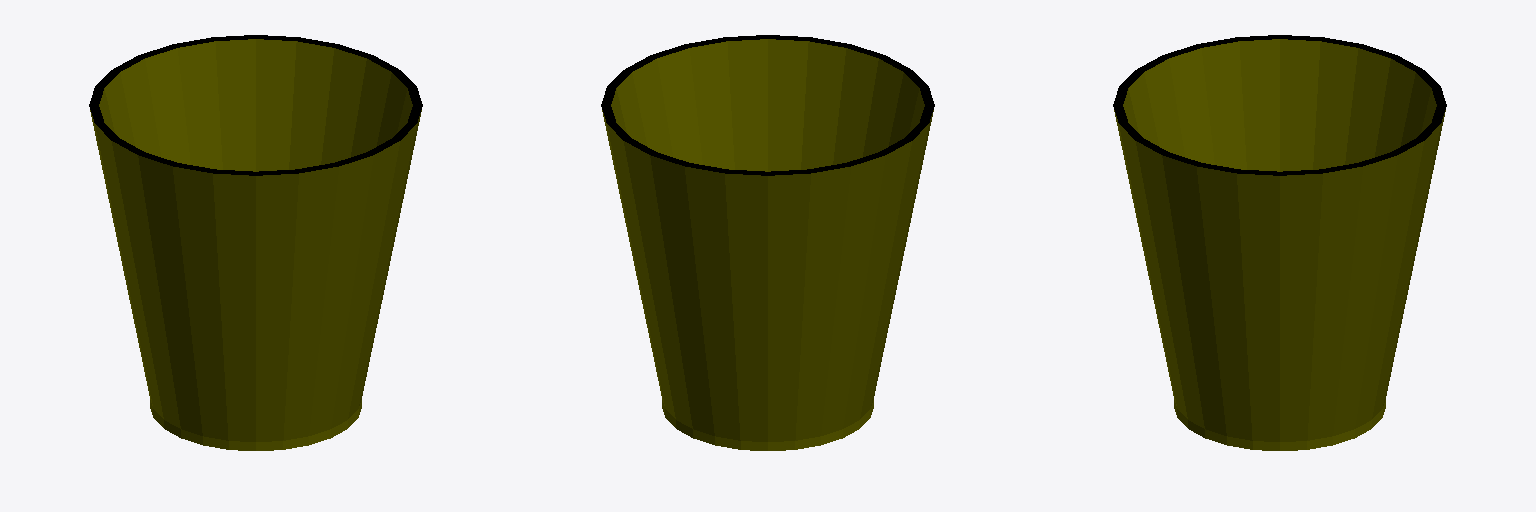
Rendered from trashOrganico.obj.
The picture shows the model from 3 angles: view 1: azimuth 30°, elevation 25°; view 2: azimuth 150°, elevation 25°; view 3: azimuth 270°, elevation 25°; orthographic projection.
Visible parts, largest first — view 1: Mesh1 Model; view 2: Mesh1 Model; view 3: Mesh1 Model.
Part boxes in pixels (x1,y1,x2,y2): Mesh1 Model: (89, 35, 422, 450); Mesh1 Model: (601, 35, 934, 450); Mesh1 Model: (1113, 35, 1446, 450).
Bounding box in the file's own units: 1 × 0.996 × 1.